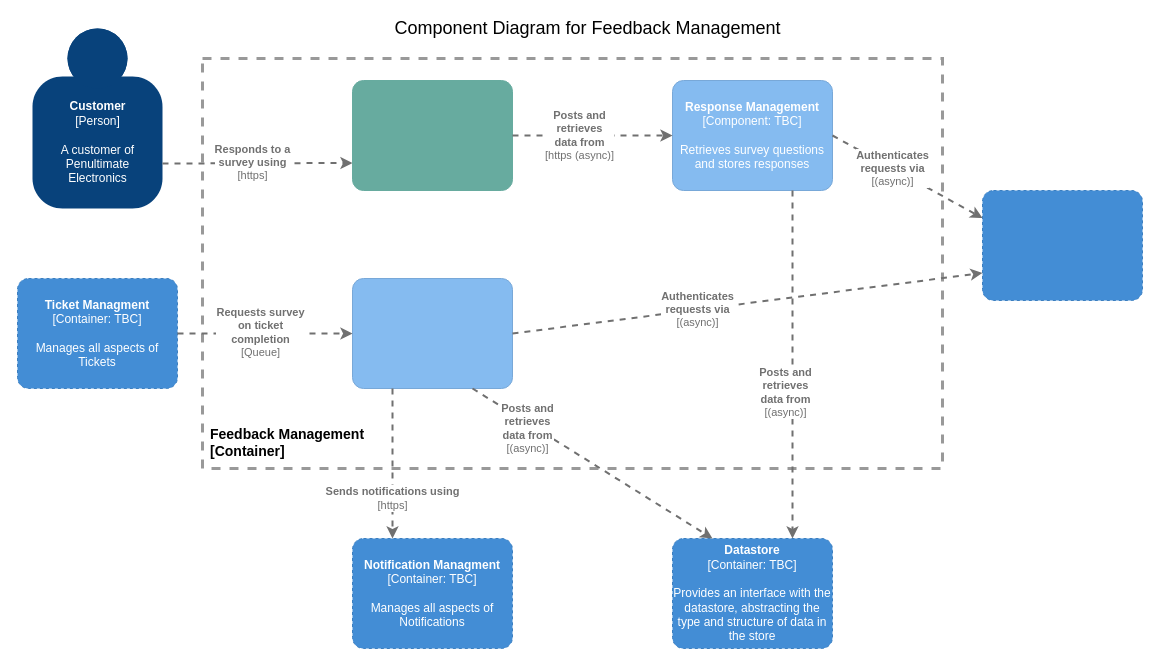
The diagram is 1160 pixels wide and 666 high, and some of its shapes have lost their labels. The shapes that lost their labels are listed below. From the top down, each one's box as (x1, y1, x2, y2) in pixels, then its label:
(352, 80, 512, 190): Feedback UI [Component: TBC] User interface for Feedback Management
(982, 190, 1142, 300): Authentication [Container: TBC] Manages authentication within the system
(352, 278, 512, 388): Survey Management [Component: TBC] Assigns a survey to a customer
